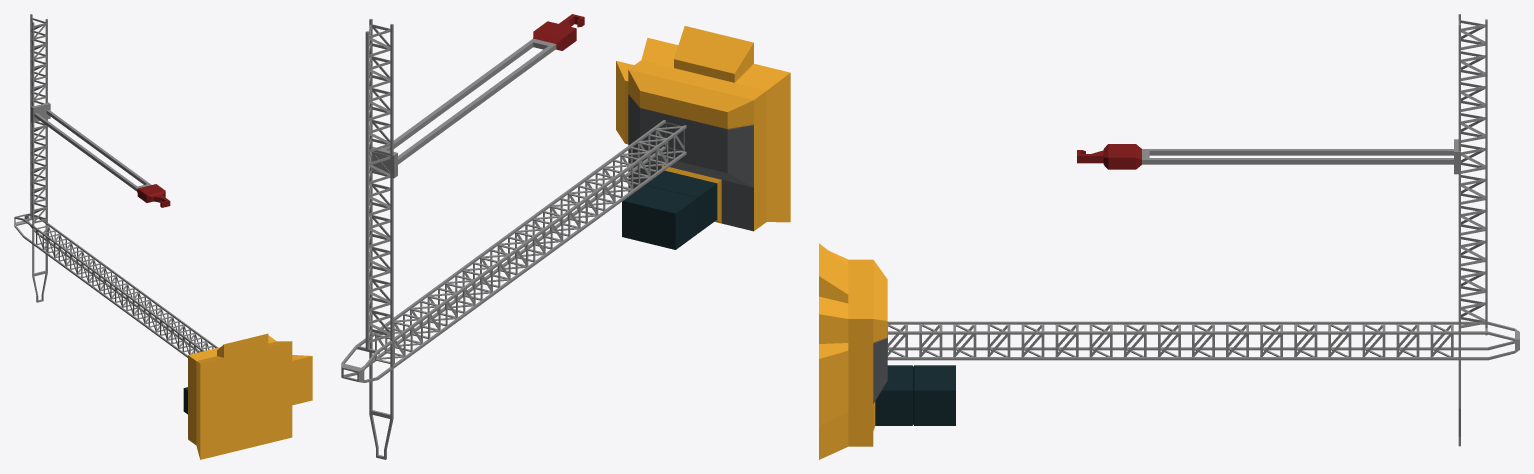
File: construction-crane.obj
The picture shows the model from 3 angles, left to right: view 1: azimuth 30°, elevation 25°; view 2: azimuth 150°, elevation 25°; view 3: azimuth 270°, elevation 25°; orthographic projection. The views are drawn at different scales.
Visible parts, largest first — view 1: construction-crane_Cube.105; view 2: construction-crane_Cube.105; view 3: construction-crane_Cube.105.
Boxes of the visible parts, x1,y1,x2,y2 form: construction-crane_Cube.105: [14, 14, 312, 459]; construction-crane_Cube.105: [341, 14, 790, 459]; construction-crane_Cube.105: [819, 14, 1519, 459].
Size of the model in its own units: 3.3 by 7.87 by 11.78.
